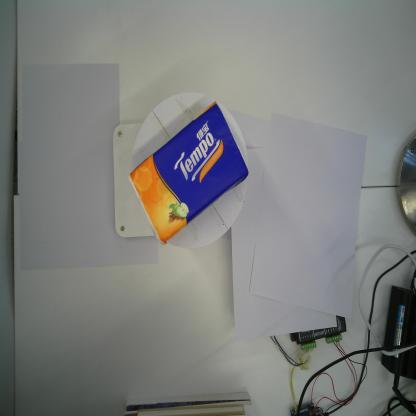Tissue: (127, 99, 250, 249)
